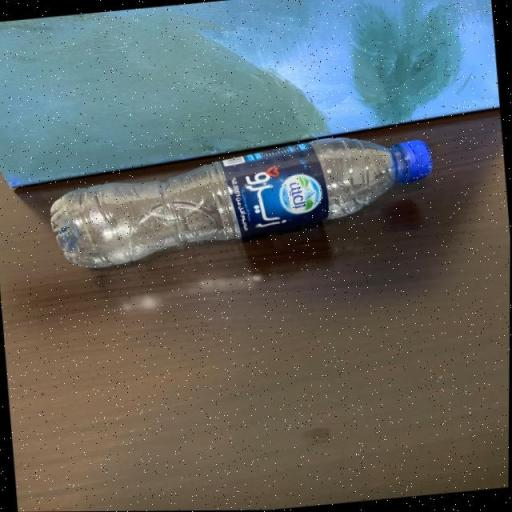plastic: (50, 138, 435, 269)
